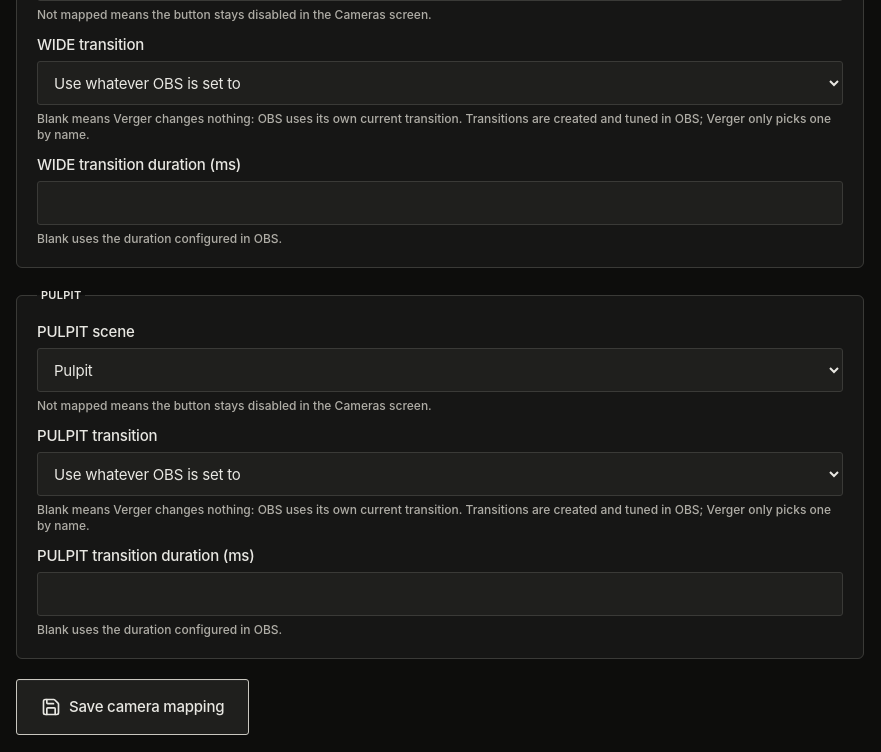
Test case: CameraSettings › saves the mapping through setConfig, with a blank transition meaning "leave OBS alone"
(page scrolled)
Select "Welcome loop" in the dropdown labelled "PULPIT scene" at x=440, y=370, box [37, 348, 843, 392]
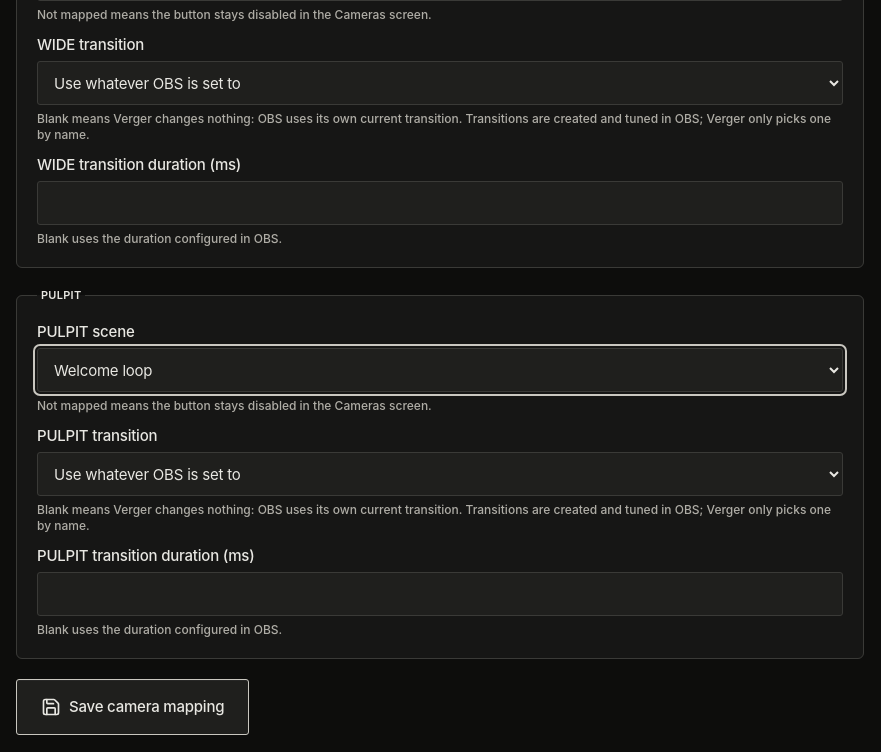
Select "Fade" in the dropdown labelled "PULPIT transition" at x=440, y=474, box [37, 452, 843, 496]
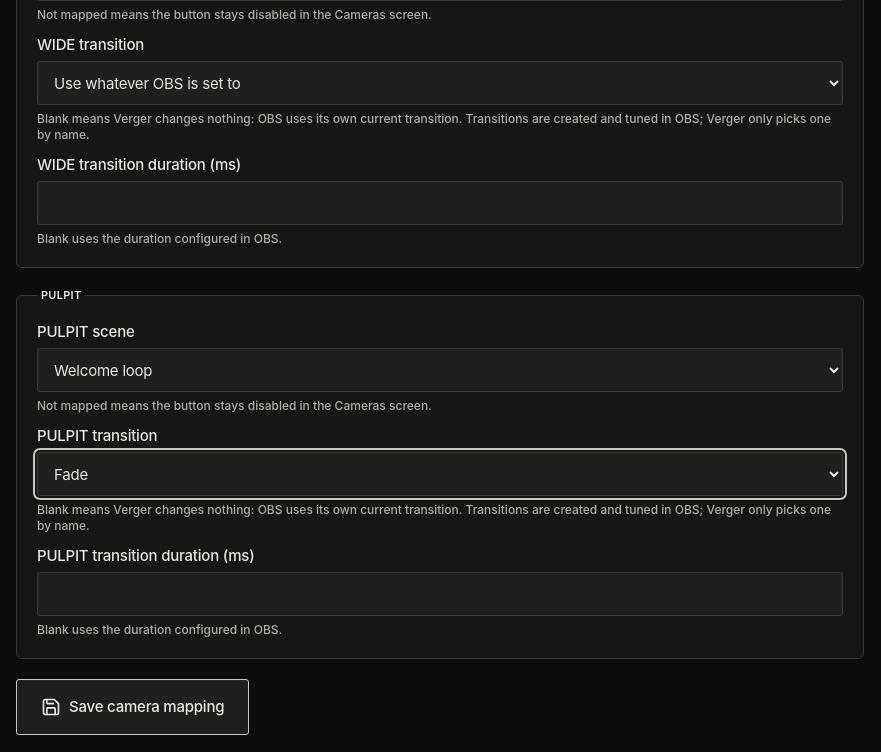
Type "350" into the field labelled "PULPIT transition duration (ms)" at x=440, y=594, box [37, 572, 843, 616]
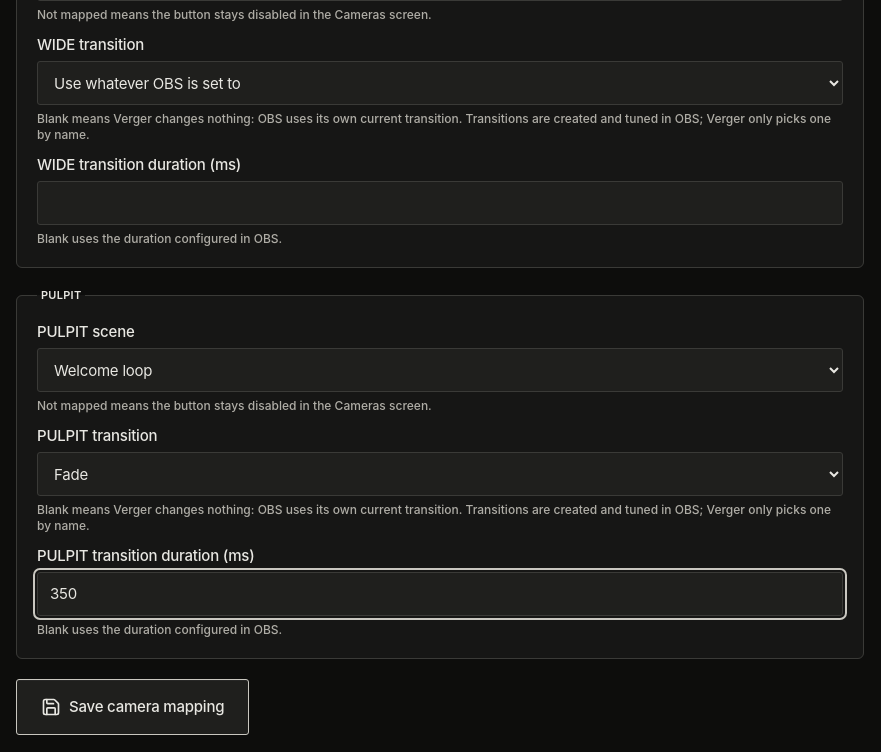
Click the button "Save camera mapping" at x=133, y=707, box [16, 679, 249, 735]
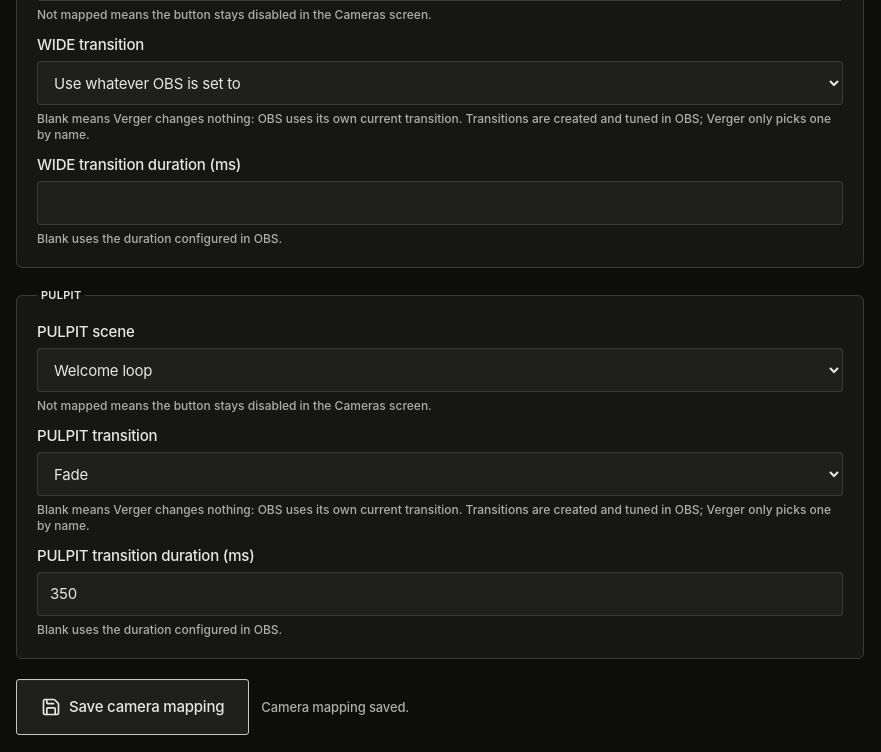
expect the text "Camera mapping saved." is shown: met, box [261, 698, 409, 716]
